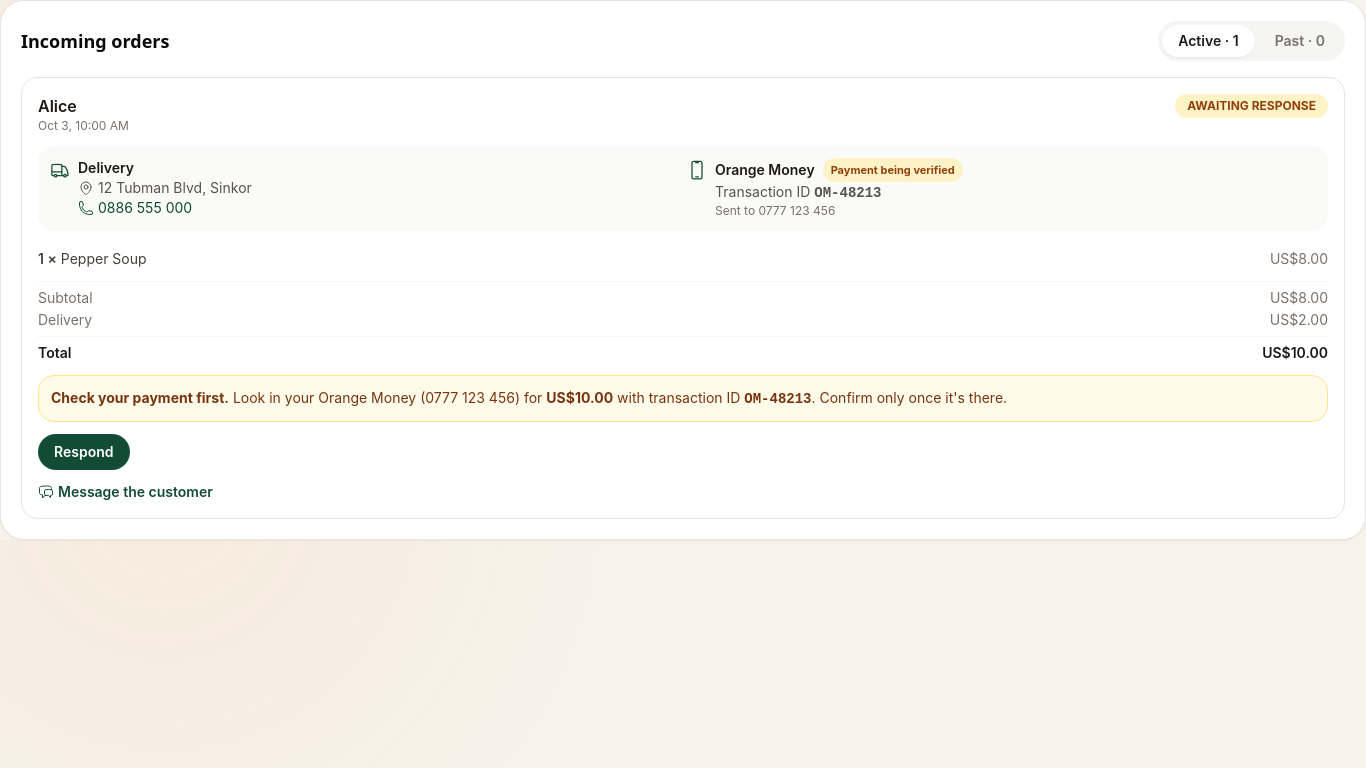
Test: FoodOrdersManager › asks the owner to verify a mobile money payment before confirming it
Click the button "Respond". click: coordinates (84, 452)
box: [38,434,130,470]
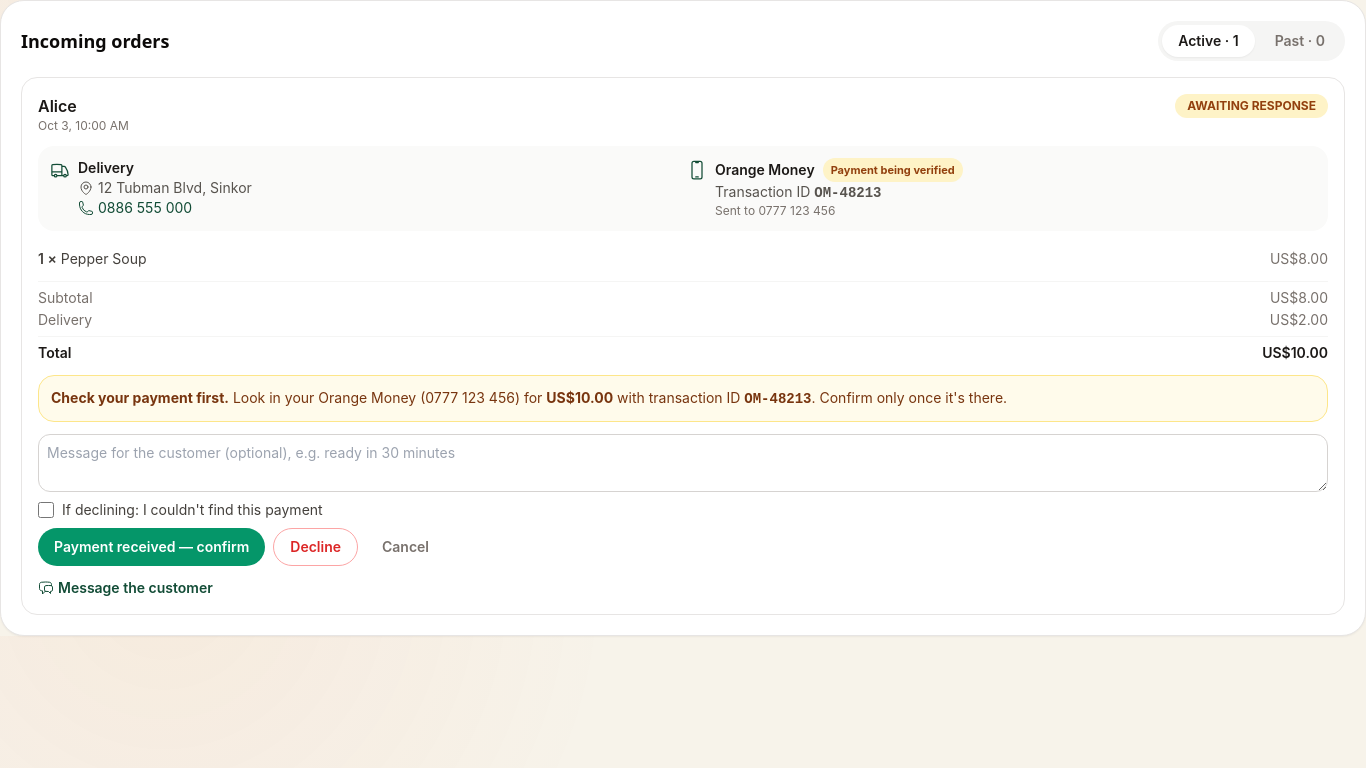
Click the button "Payment received — confirm". click: coordinates (152, 547)
box: [38,528,265,566]
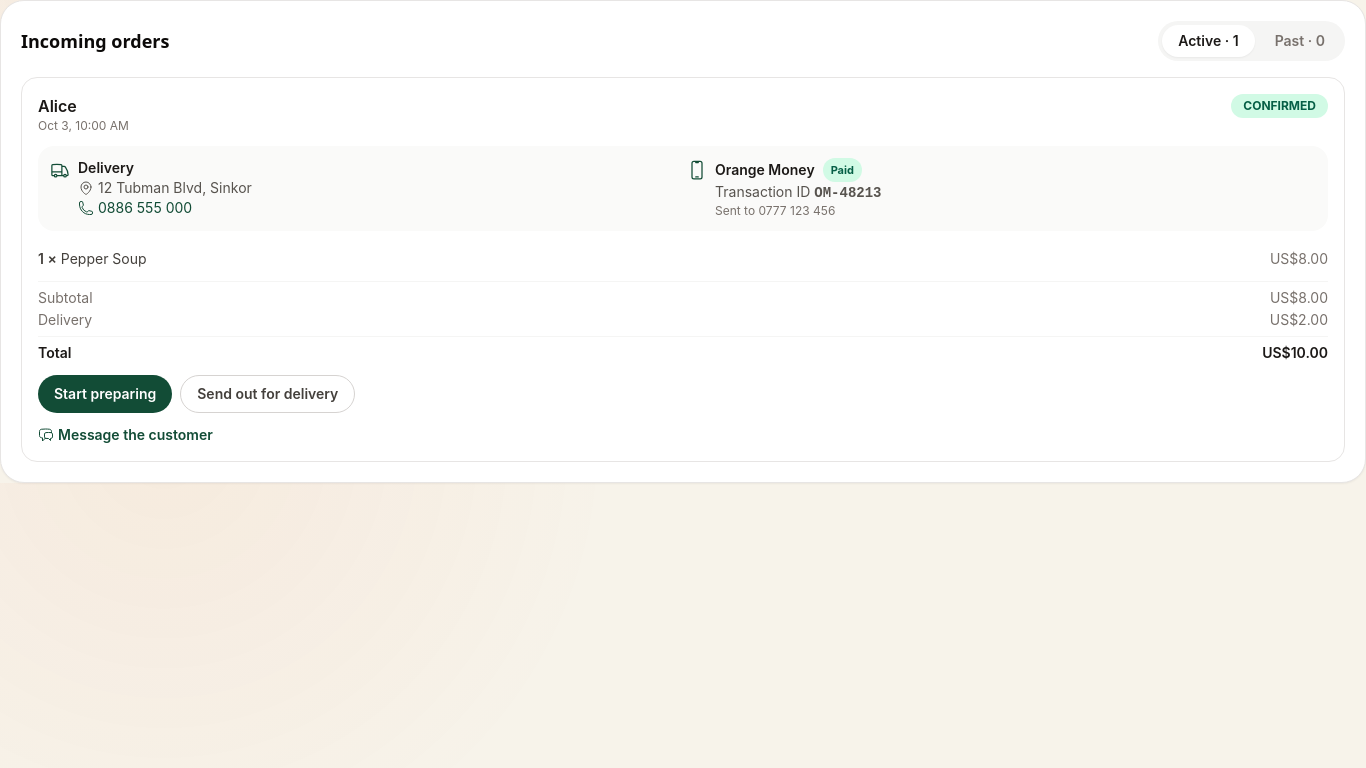
Expected: the button "Start preparing" is shown, [38,375,172,413]
Expected: the button "Send out for delivery" is shown, [180,375,355,413]
